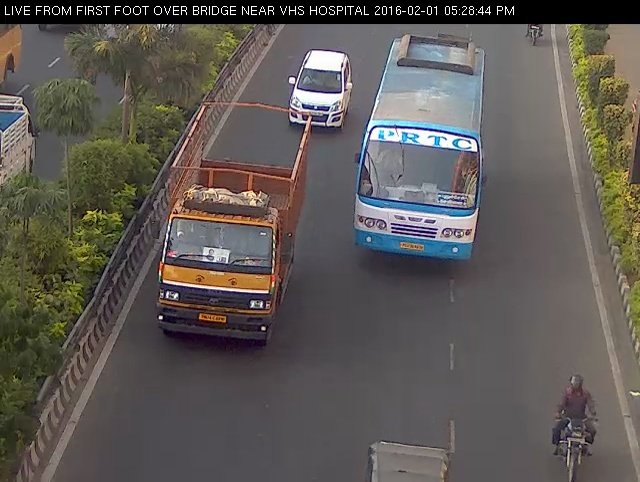Auto: (354, 418, 459, 482)
Bus: (158, 87, 308, 365), (350, 28, 492, 275)
Car: (281, 35, 355, 137)
Person: (545, 355, 604, 481)
